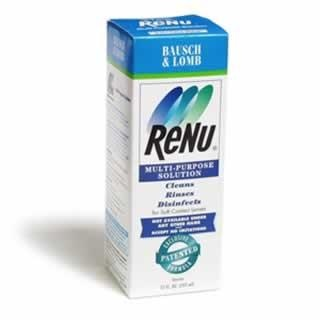grozi_1: (104, 12, 228, 300)
